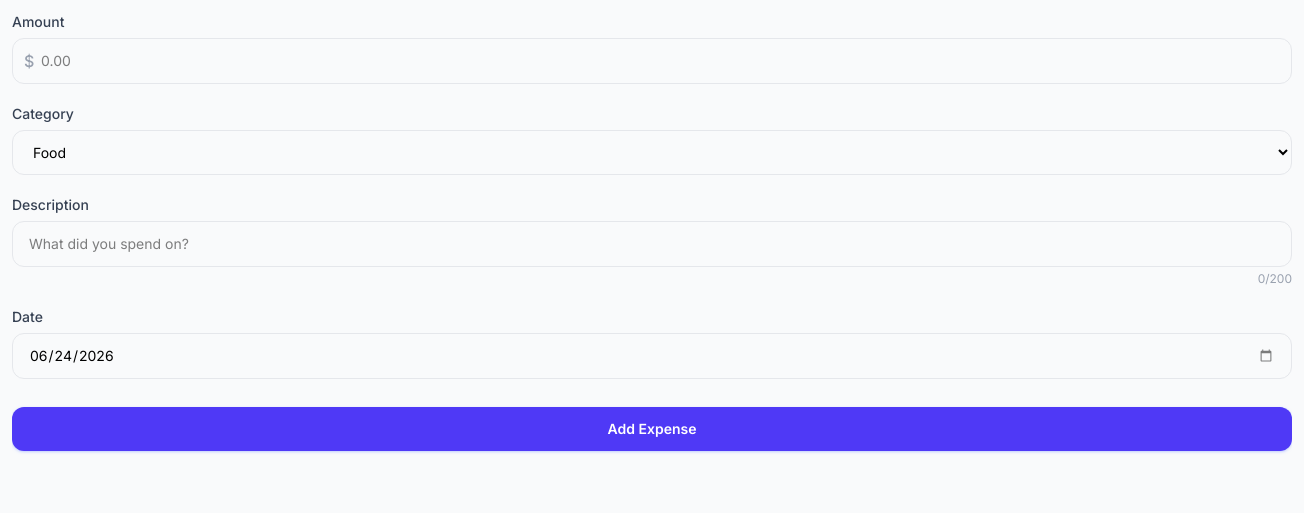
ExpenseForm — validation › shows an error when amount is negative
Type "-5" into the number field with placeholder "0.00" at point(652, 61), box 12,38 -> 1292,84
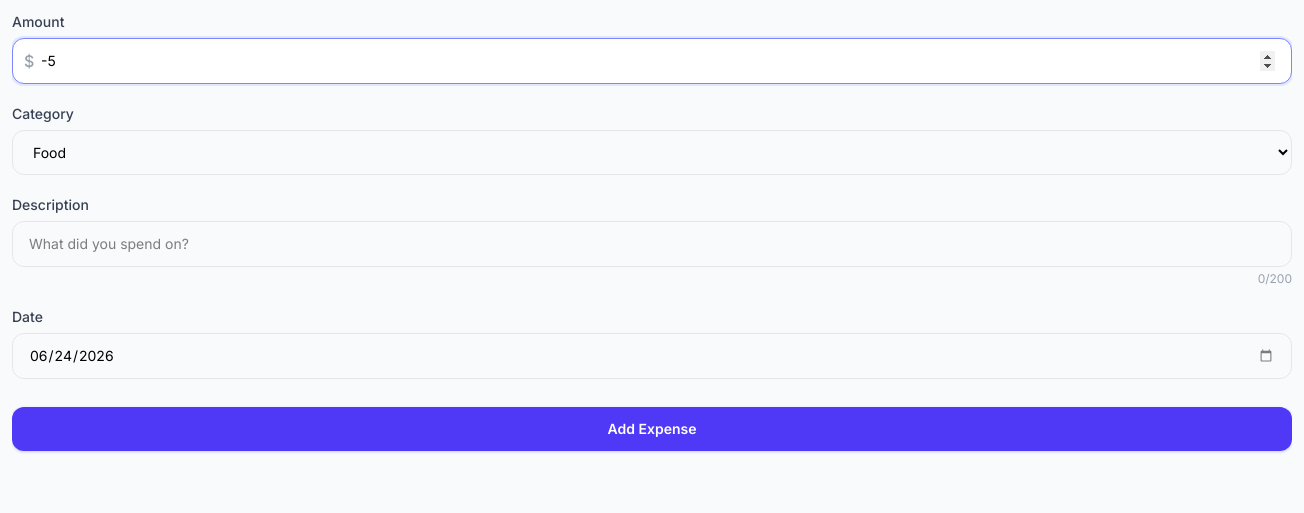
Click the button "Add Expense" at point(652, 429), box 12,407 -> 1292,451
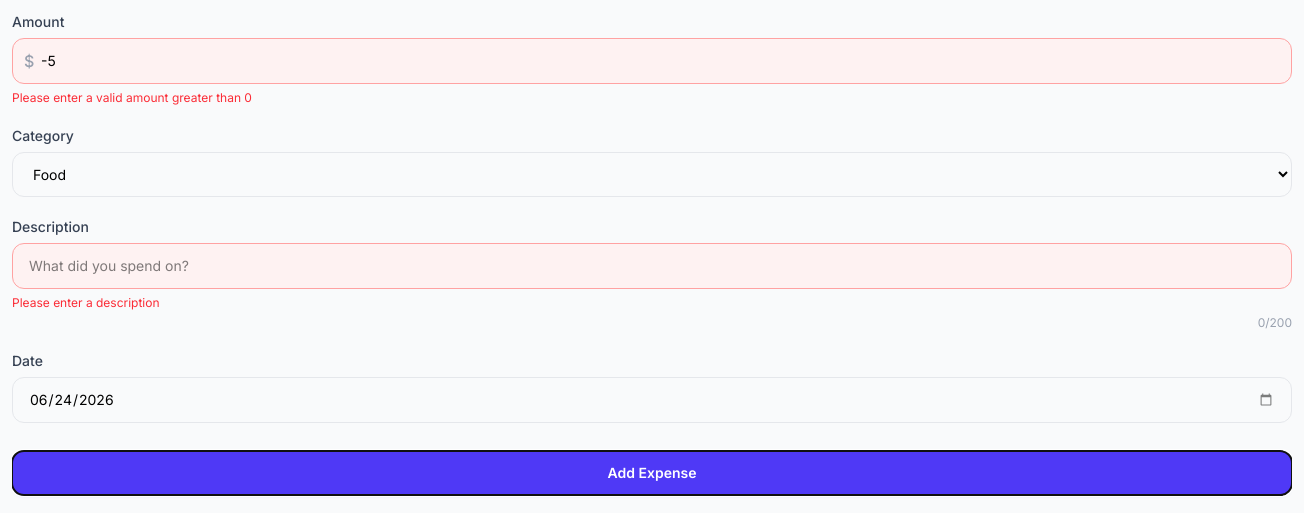
Expected: the text "Please enter a valid amount greater than 0" is shown, 12,90 -> 252,105
